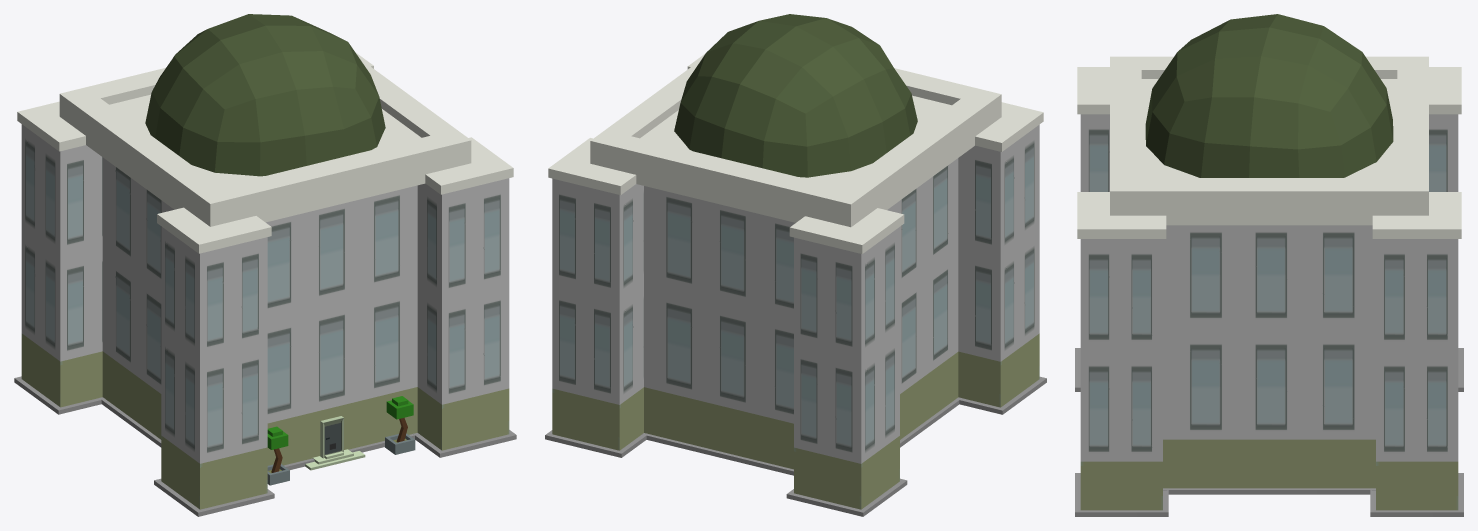
File: Corner Pilars Green Hat.fbx
The picture shows the model from 3 angles, left to right: view 1: azimuth 30°, elevation 25°; view 2: azimuth 150°, elevation 25°; view 3: azimuth 270°, elevation 25°; orthographic projection. The views are drawn at different scales.
Parts seen in each view (by area): view 1: Corner Pilars Green Hat; view 2: Corner Pilars Green Hat; view 3: Corner Pilars Green Hat.
Part boxes in pixels (bbox=[...]): Corner Pilars Green Hat: bbox=[14, 14, 516, 516]; Corner Pilars Green Hat: bbox=[545, 14, 1046, 516]; Corner Pilars Green Hat: bbox=[1075, 14, 1463, 516].
Size of the model in its own units: 7.37 by 8.52 by 7.37.
